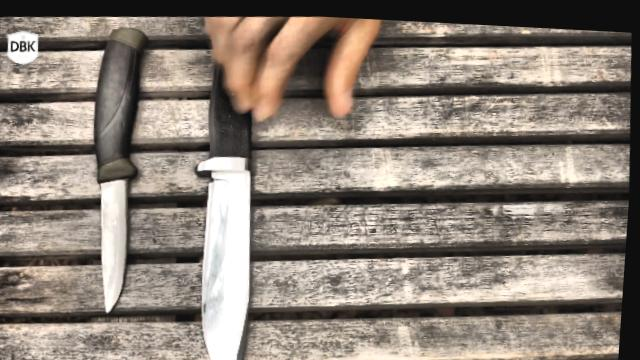knife: (168, 53, 313, 360), (77, 152, 154, 323)
